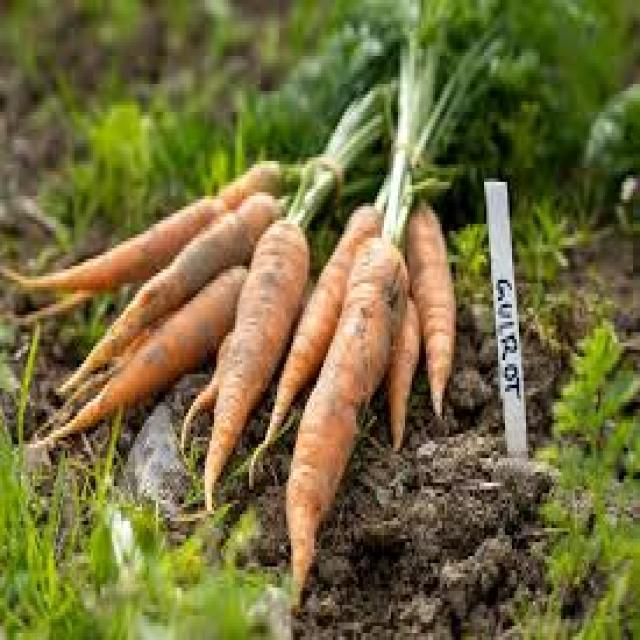Stale_Carrot: (21, 193, 279, 285), (225, 228, 272, 439)
